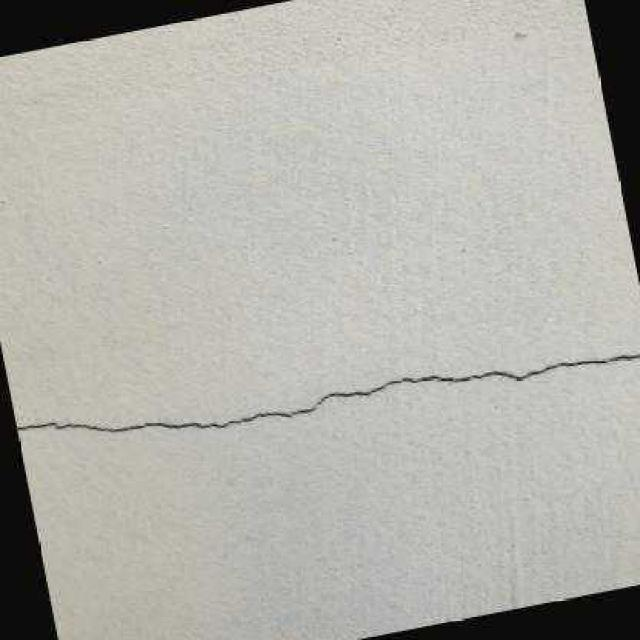D00: (15, 352, 640, 433)
